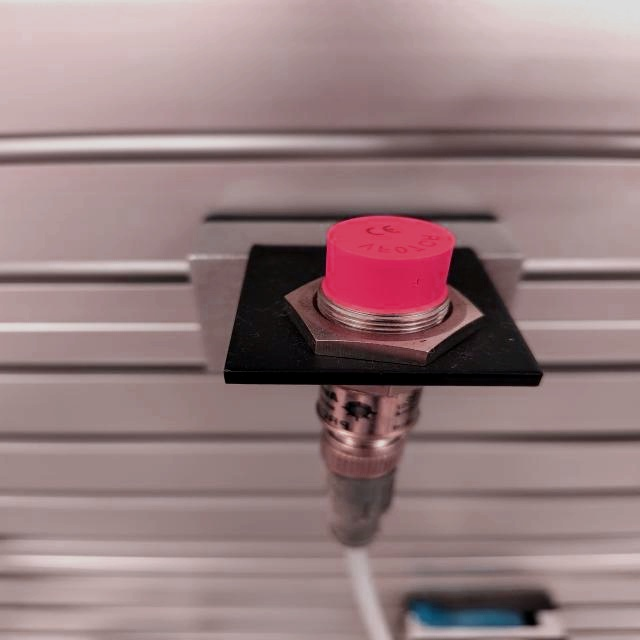inductive sensor: (175, 207, 552, 552)
